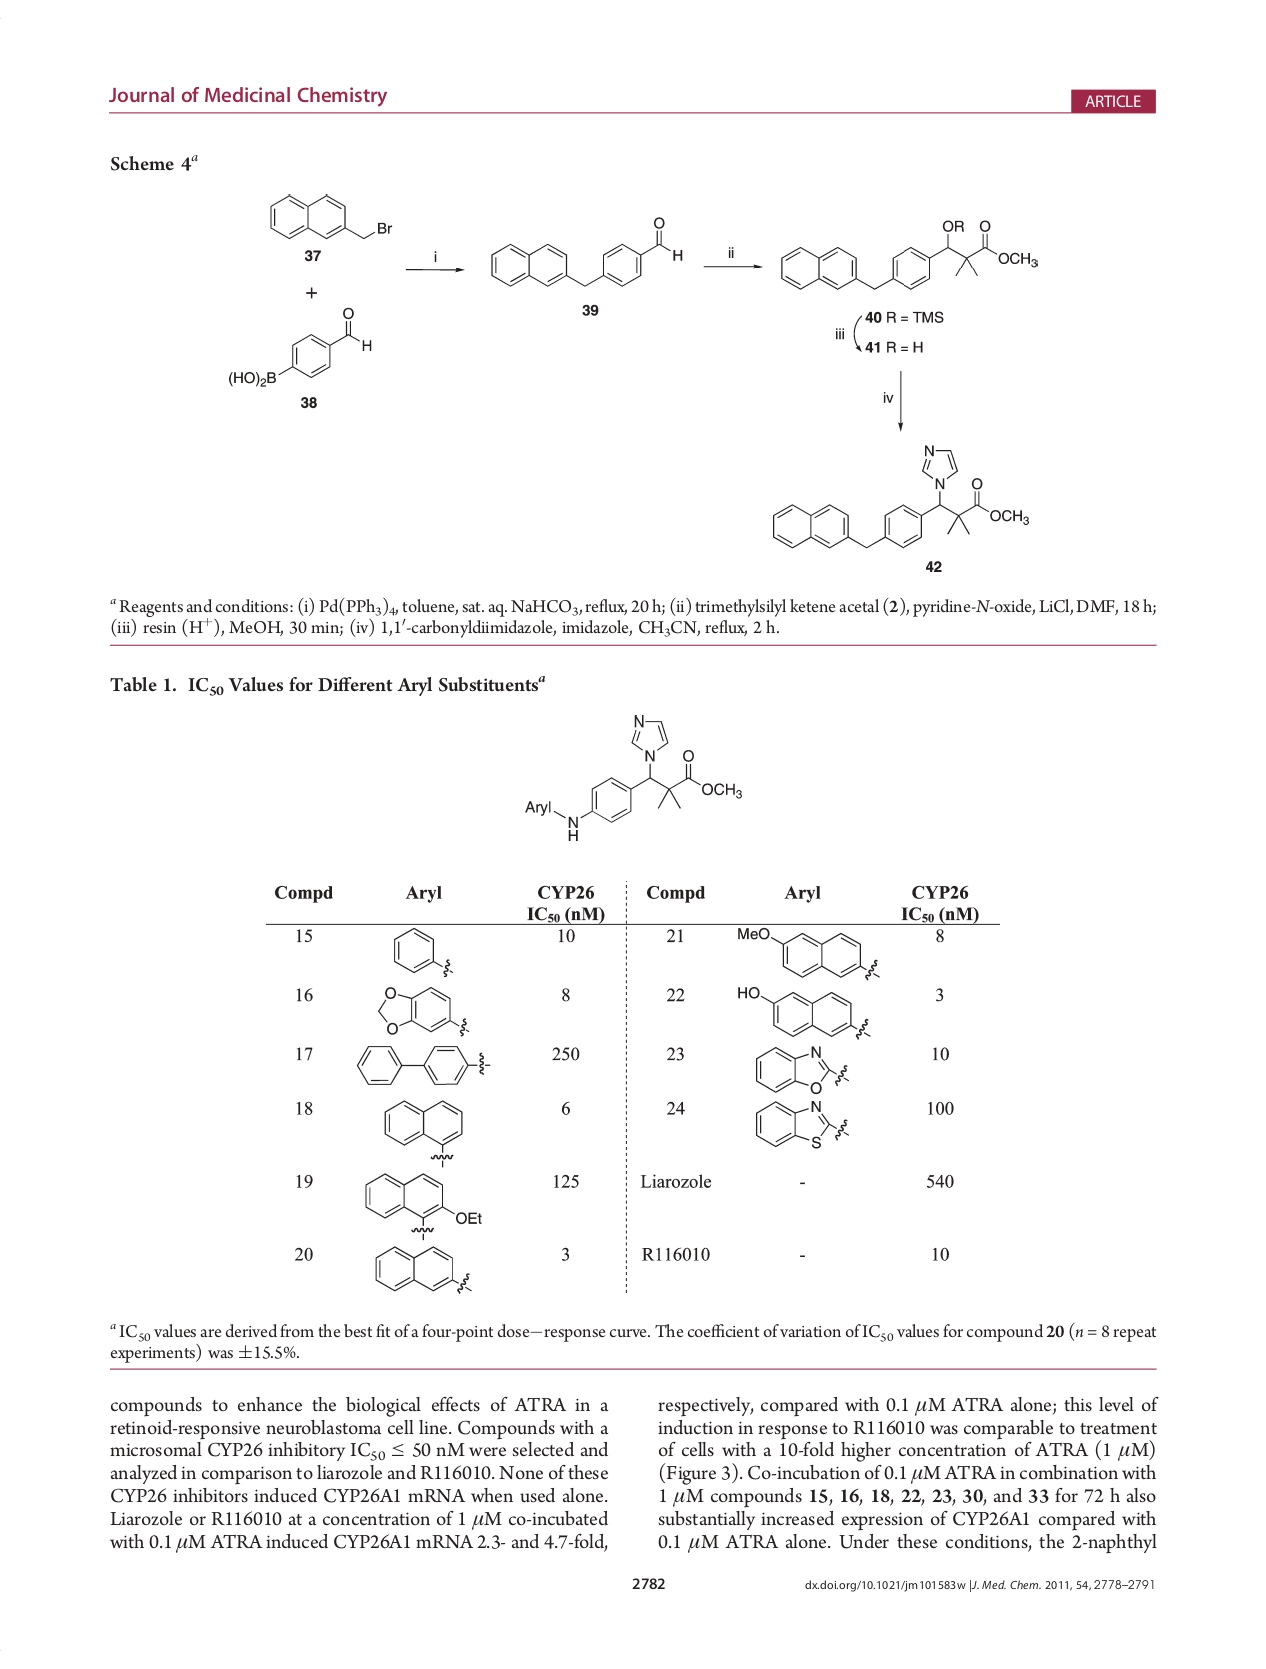exist_molecular: (520, 711, 749, 844), (766, 442, 1033, 552), (777, 214, 1040, 297), (485, 211, 688, 294), (223, 305, 375, 390), (359, 1170, 485, 1243), (730, 981, 872, 1043), (735, 924, 882, 983), (354, 1039, 492, 1091), (263, 190, 391, 243), (376, 1096, 464, 1170), (370, 1241, 476, 1301), (372, 983, 473, 1040), (751, 1094, 852, 1150), (750, 1044, 852, 1094), (388, 926, 457, 979)
